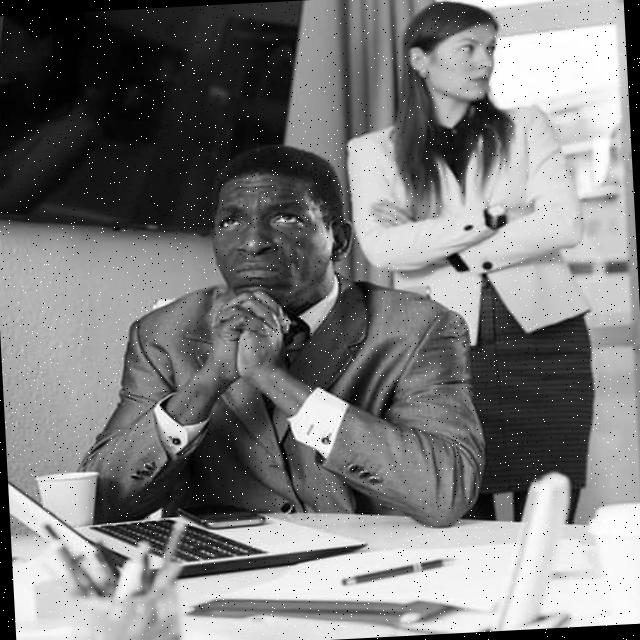Sadness: (211, 172, 316, 306)
